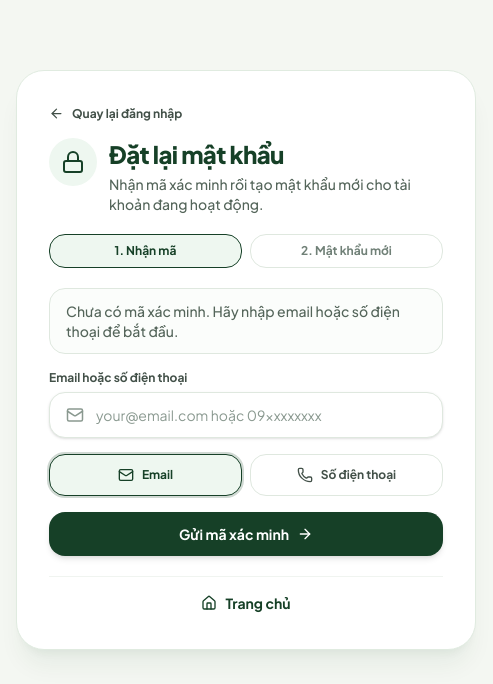
ForgotPasswordPage › requests an OTP and moves to the verification/new-password step
Type "  Camper@CTMS.local  " into the field labelled "Email hoặc số điện thoại". click: (261, 415)
box: [96,405,426,425]
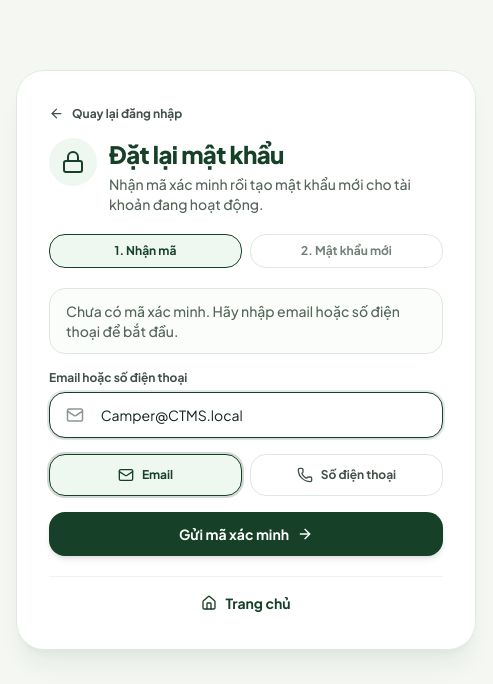
Click the button "Gửi mã xác minh". click: (246, 534)
box: [49,512,443,556]
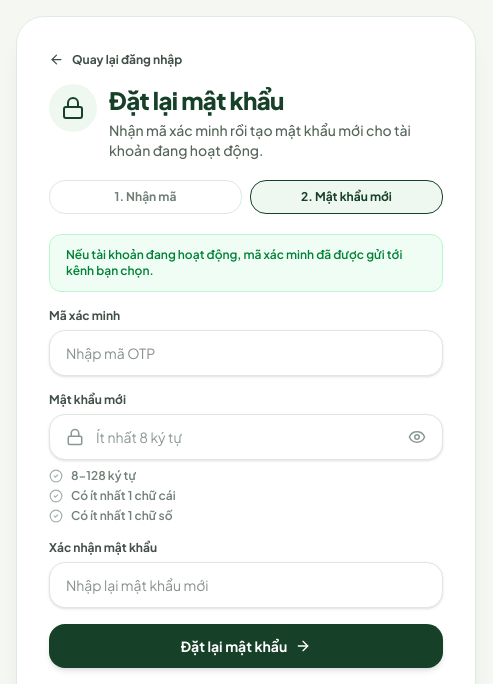
Now the field labelled "Mã xác minh" is shown, box [49,330,443,376]
Now the password field labelled "Mật khẩu mới" is shown, box [96,426,396,446]
